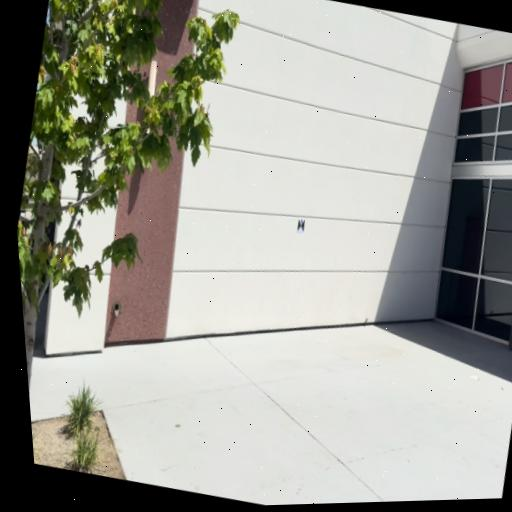target0: (296, 217, 305, 233)
